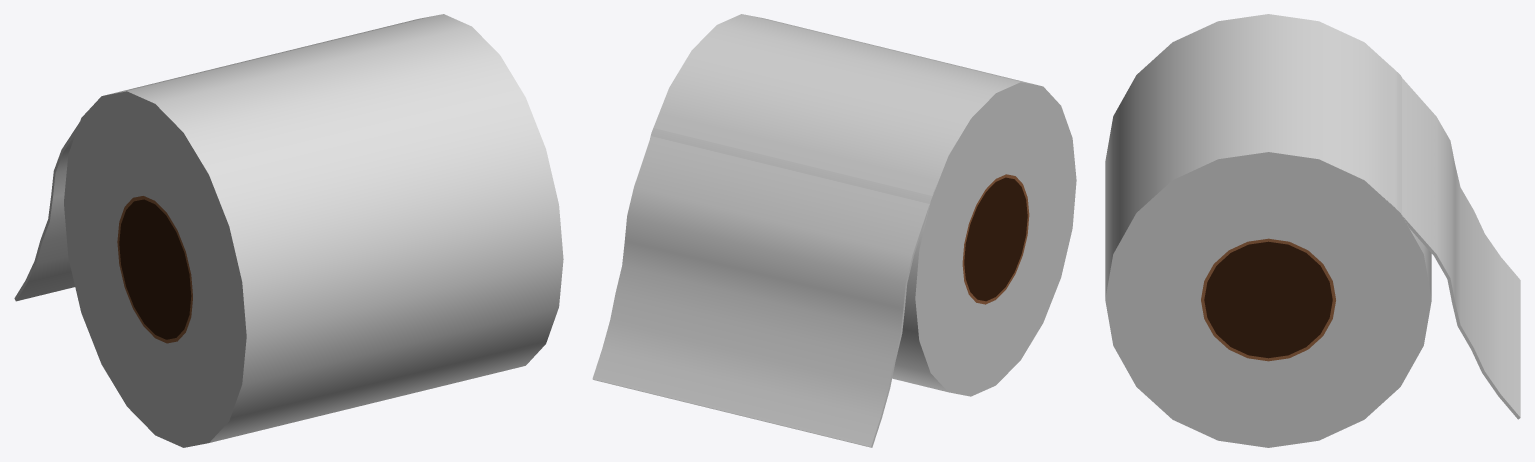
The model's file is Toilet_Paper.fbx.
3 views of the same model, side by side, from view 1: azimuth 30°, elevation 25°; view 2: azimuth 150°, elevation 25°; view 3: azimuth 270°, elevation 25° (orthographic). The views are drawn at different scales.
Parts seen in each view (by area): view 1: pPlane2; view 2: pPlane2; view 3: pPlane2.
Boxes of the visible parts, bbox=[...] form: pPlane2: bbox=[14, 14, 563, 447]; pPlane2: bbox=[592, 14, 1076, 447]; pPlane2: bbox=[1105, 14, 1520, 447].
Size of the model in its own units: 2 by 2 by 2.54.
